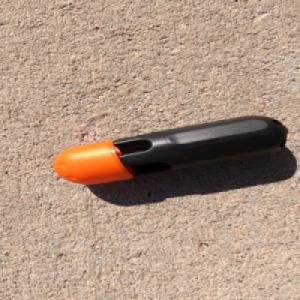PlasticPart: (52, 115, 290, 185)
